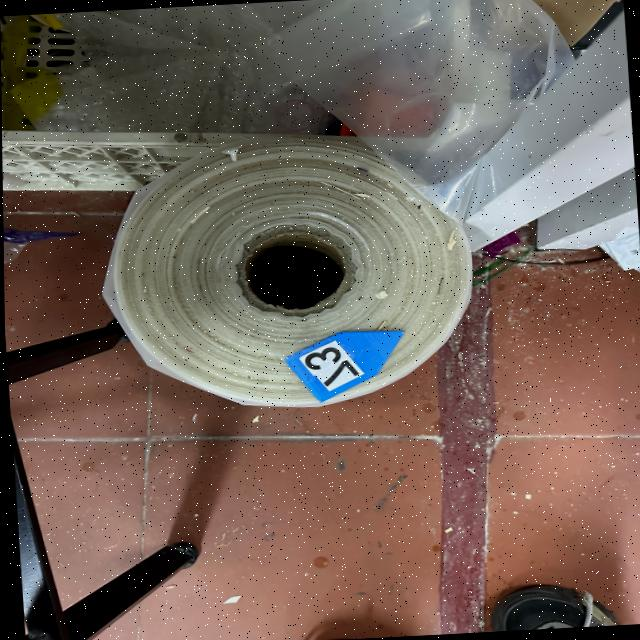board: (282, 330, 407, 403)
